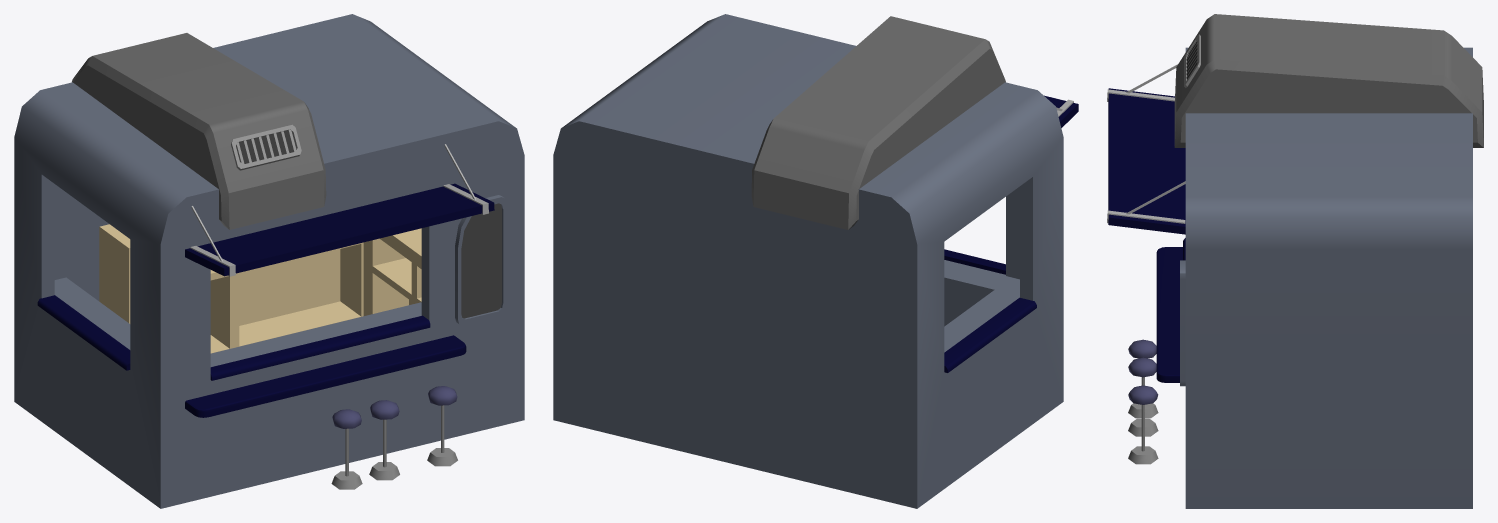
The model's file is Foodstand_02.fbx.
The picture shows the model from 3 angles, left to right: view 1: azimuth 30°, elevation 25°; view 2: azimuth 150°, elevation 25°; view 3: azimuth 270°, elevation 25°; orthographic projection.
Parts seen in each view (by area): view 1: Foodstand_02; view 2: Foodstand_02; view 3: Foodstand_02.
Part boxes in pixels (x1=…): Foodstand_02: x1=14, y1=14, x2=524, y2=508; Foodstand_02: x1=553, y1=14, x2=1078, y2=508; Foodstand_02: x1=1107, y1=14, x2=1483, y2=508.
Size of the model in its own units: 16.69 by 15.53 by 15.11.
